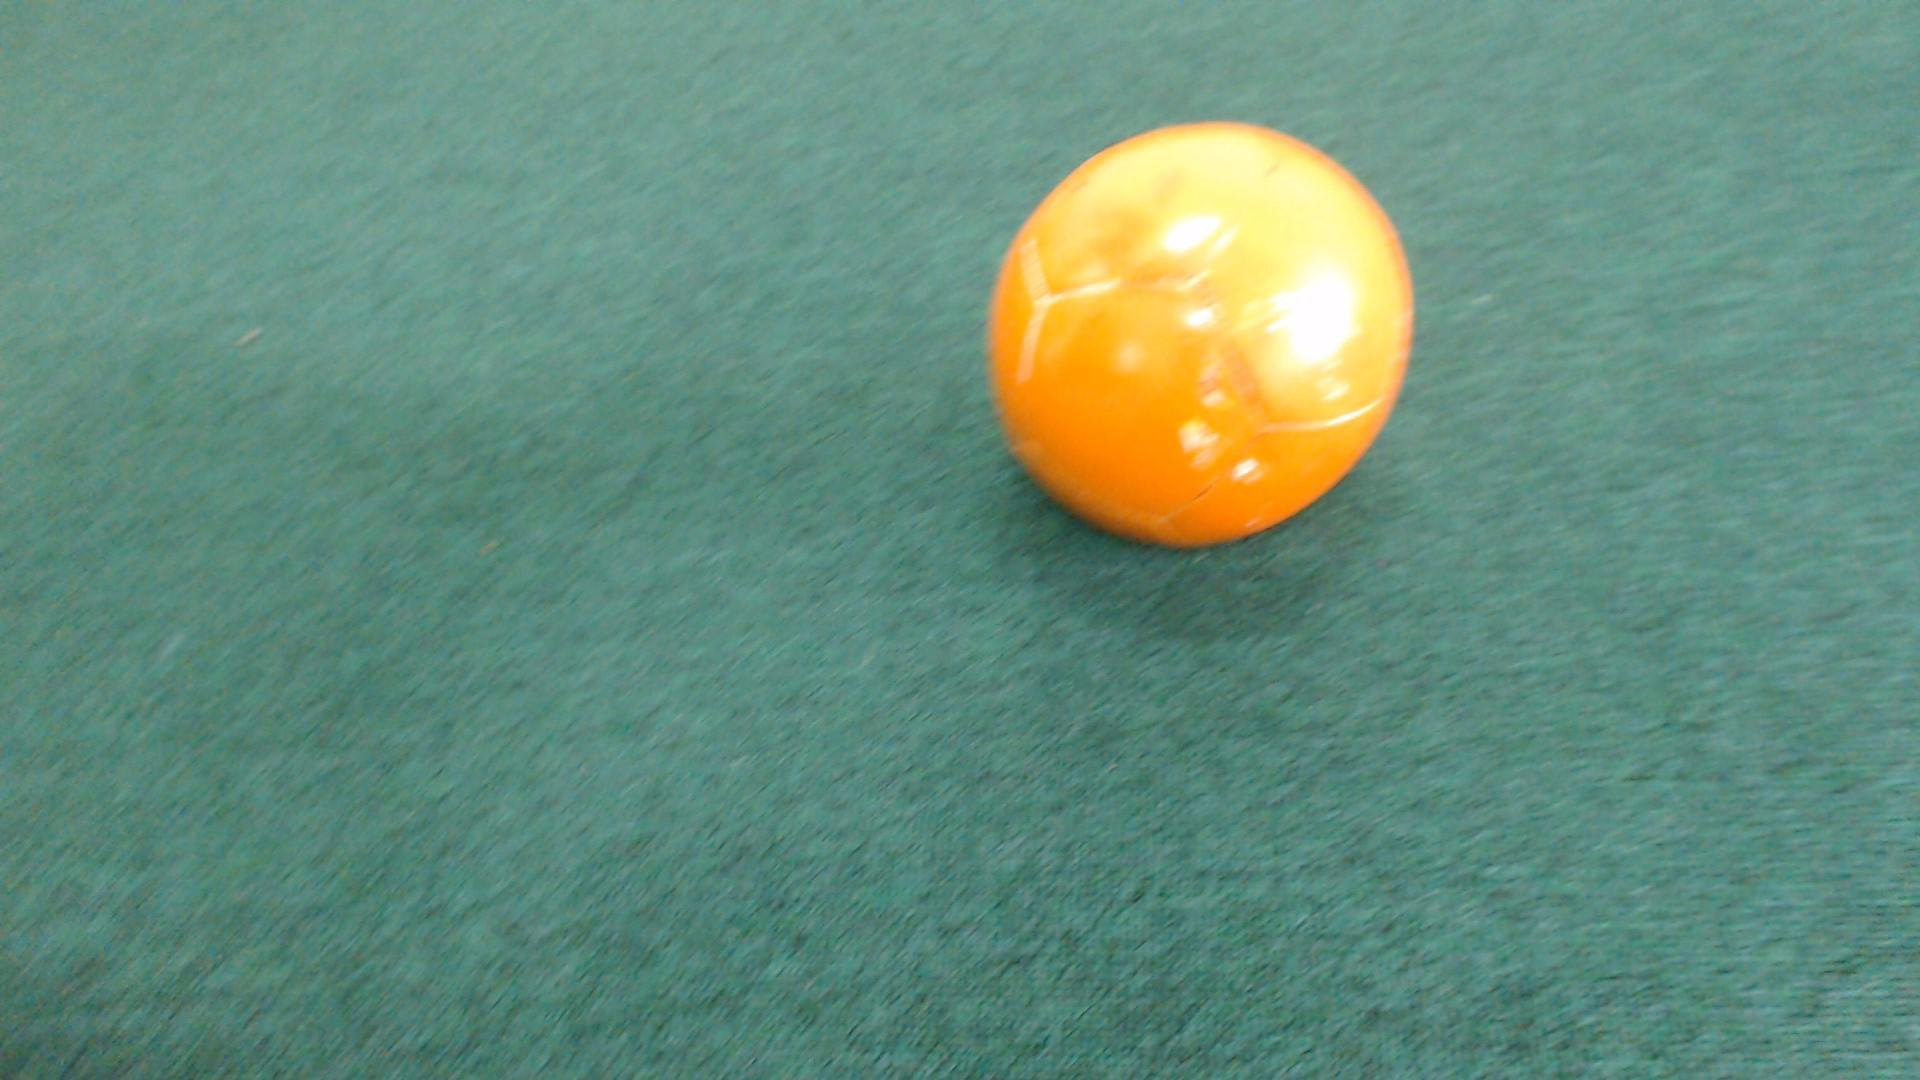bola: (942, 107, 1436, 564)
